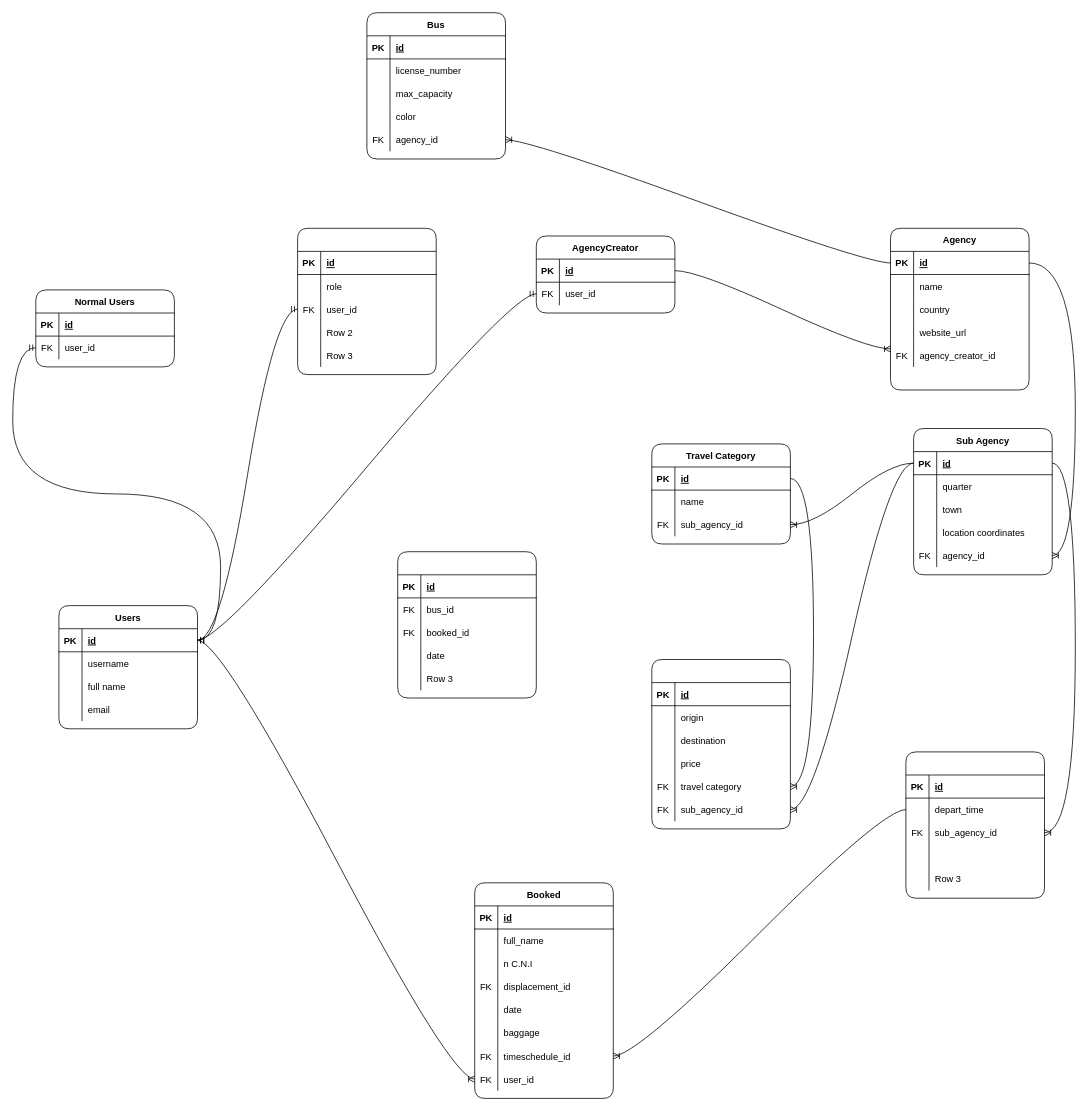
The diagram is 1088 pixels wide and 1111 high, and some of its shapes have lost their labels. Here are the shapes that lost their labels. From the top down, the box of each, then its label:
(297, 228, 436, 375): Employee
(397, 551, 536, 698): Transport
(651, 659, 790, 829): displacement
(905, 751, 1045, 898): TimeSchedule
